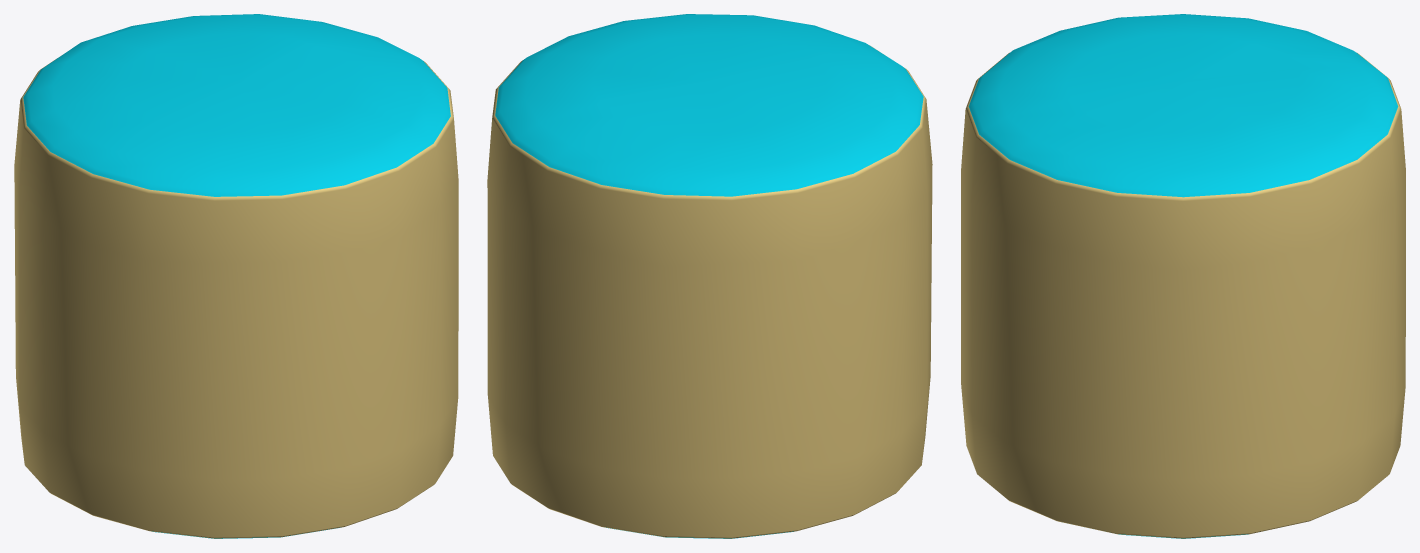
File: CilindroBajo_FBX (1).fbx
3 views of the same model, side by side, from view 1: azimuth 30°, elevation 25°; view 2: azimuth 150°, elevation 25°; view 3: azimuth 270°, elevation 25° (orthographic).
Parts seen in each view (by area): view 1: CilindroBajo_FBX; view 2: CilindroBajo_FBX; view 3: CilindroBajo_FBX.
Part boxes in pixels (x1,y1,x2,y2): CilindroBajo_FBX: (14,14,458,538); CilindroBajo_FBX: (487,14,932,538); CilindroBajo_FBX: (961,14,1405,538).
Size of the model in its own units: 464 by 444 by 461.
